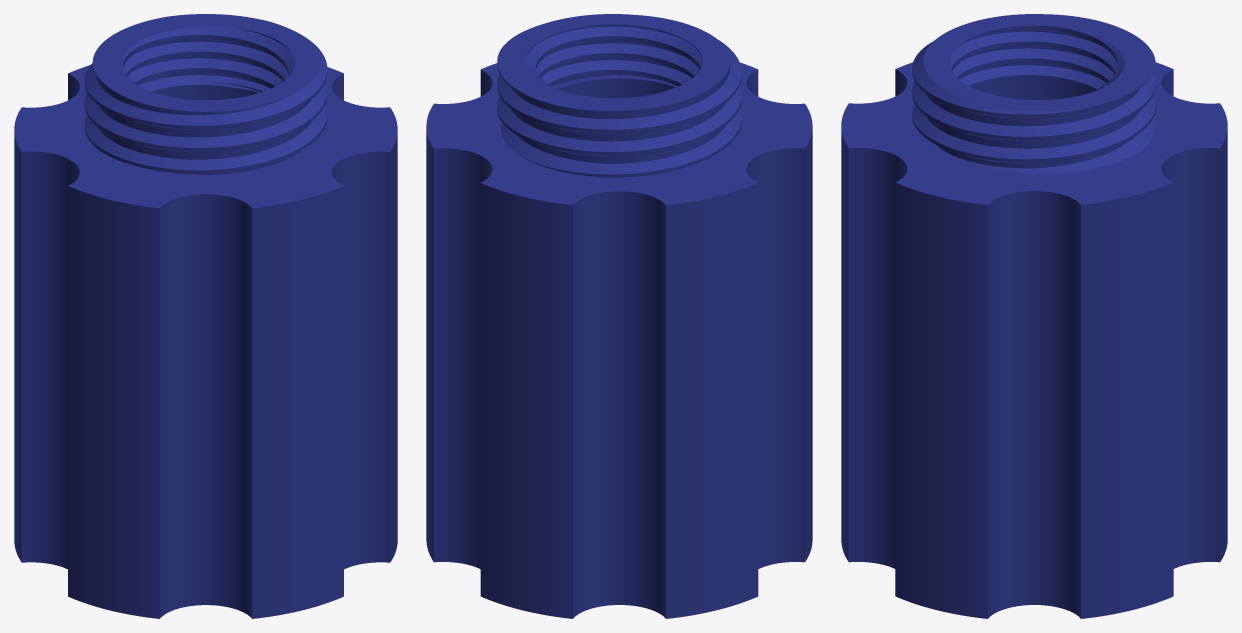
Rendered from ShakerV2_v75_ShakerV2 v75_Base_1_Body1_Base.obj.
The picture shows the model from 3 angles, left to right: view 1: azimuth 30°, elevation 25°; view 2: azimuth 150°, elevation 25°; view 3: azimuth 270°, elevation 25°; orthographic projection.
Parts seen in each view (by area): view 1: Body1; view 2: Body1; view 3: Body1.
Boxes of the visible parts, x1,y1,x2,y2 form: Body1: [14, 14, 397, 618]; Body1: [426, 14, 812, 618]; Body1: [841, 14, 1227, 618].
Size of the model in its own units: 30.37 by 42.8 by 31.3.
